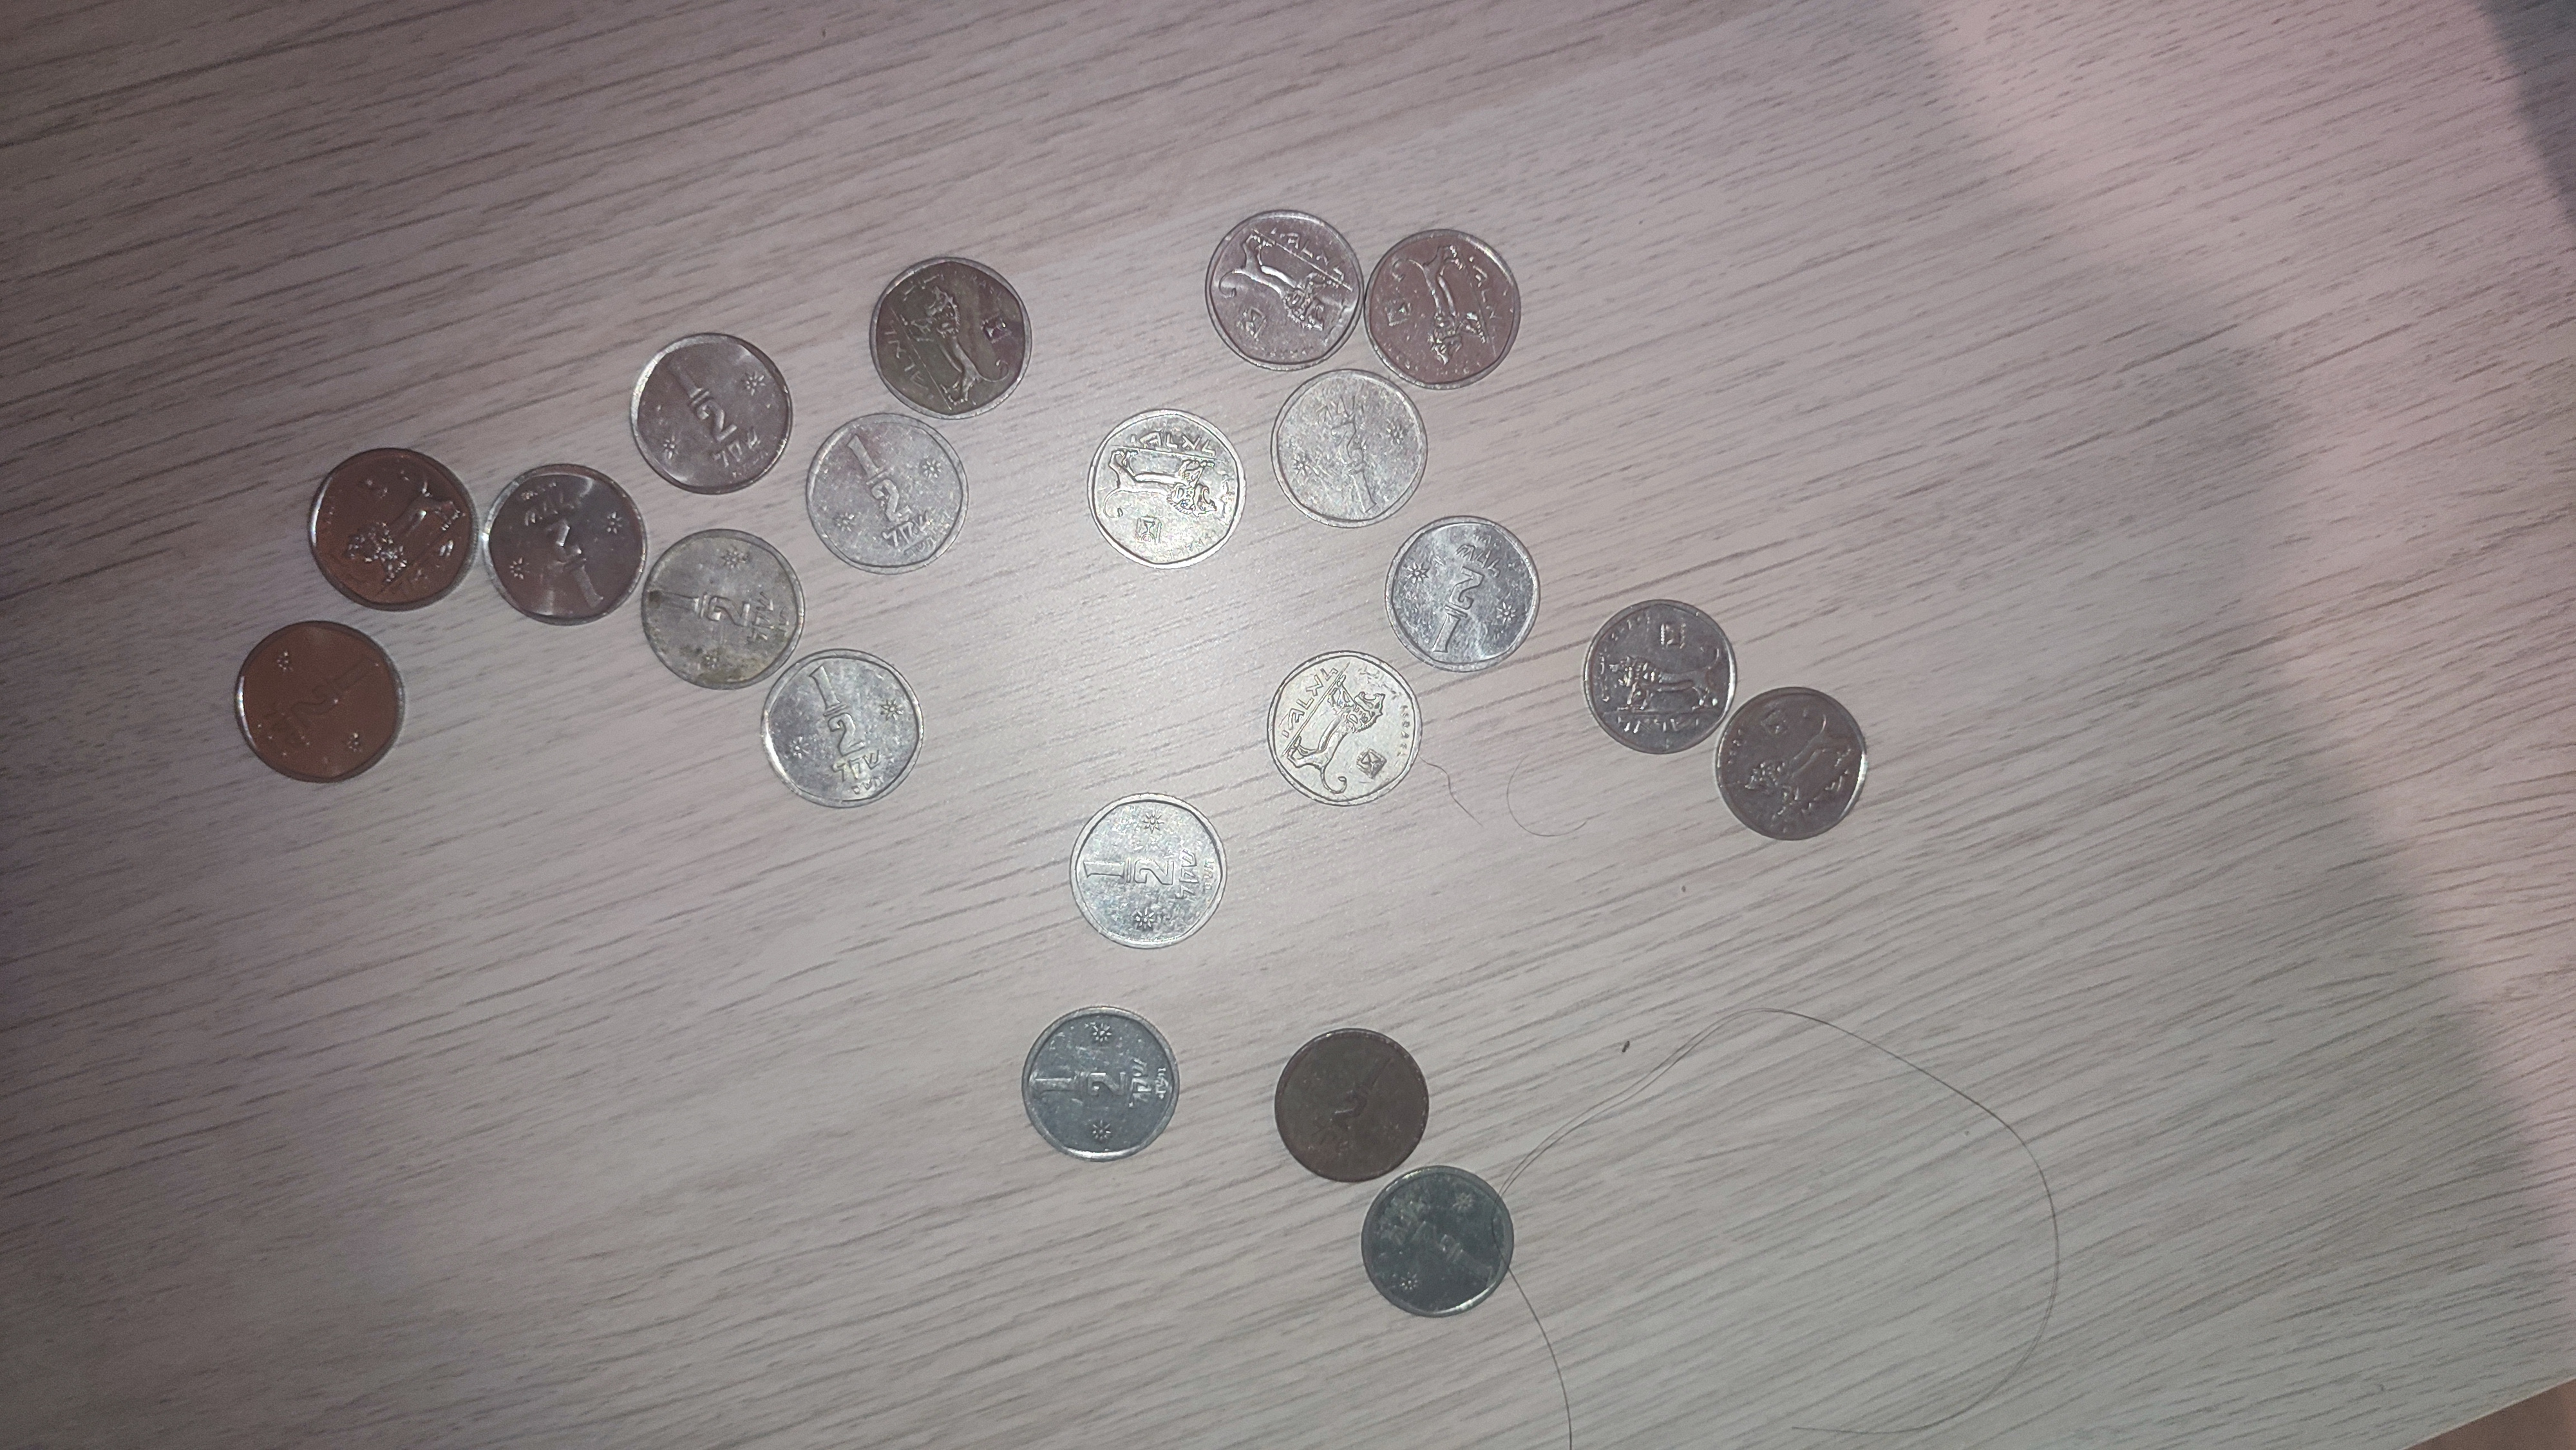1/2 old sheqel: (230, 619, 407, 789), (304, 444, 481, 614), (639, 523, 809, 695), (865, 253, 1037, 423), (478, 462, 653, 628), (625, 329, 796, 497), (755, 645, 925, 813), (801, 410, 971, 578), (1063, 787, 1231, 957), (1085, 405, 1251, 573), (1200, 207, 1366, 375), (1016, 1001, 1184, 1164), (1707, 683, 1872, 847), (1364, 228, 1527, 394), (1269, 364, 1431, 530), (1263, 645, 1426, 812), (1267, 1024, 1435, 1185), (1580, 598, 1744, 759), (1384, 513, 1543, 674), (1359, 1162, 1518, 1321)
